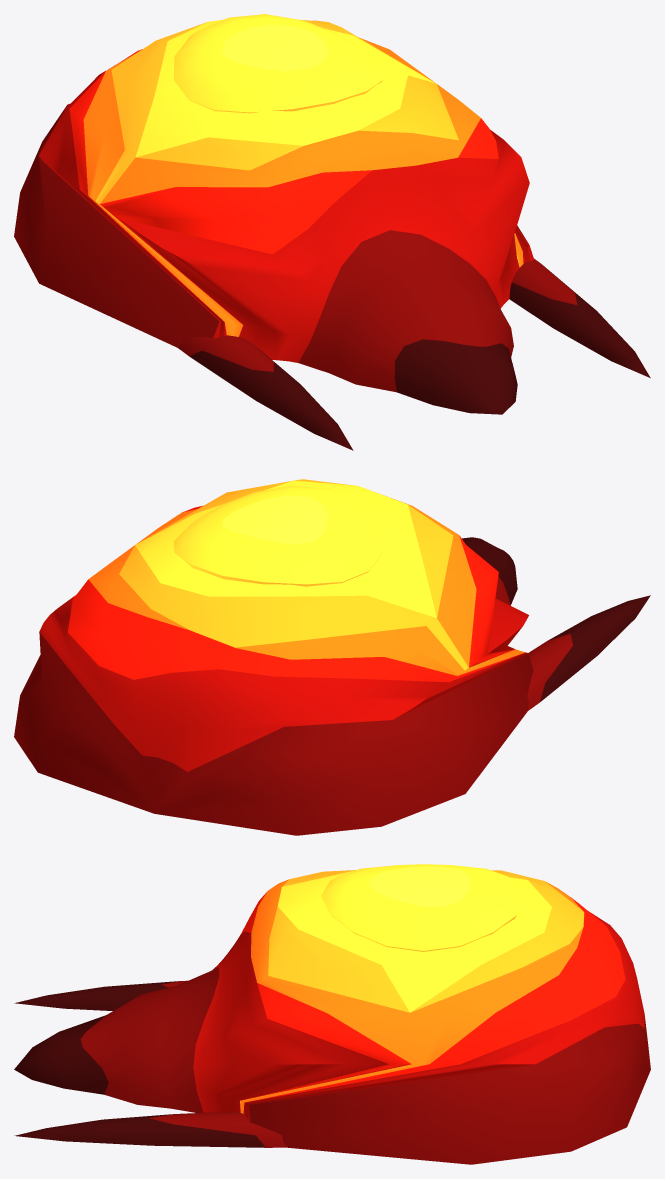
The model's file is shot_megapulse_37.glb.
3 renders of one model, top to bottom at view 1: azimuth 30°, elevation 25°; view 2: azimuth 150°, elevation 25°; view 3: azimuth 270°, elevation 25°, orthographic. The views are drawn at different scales.
Visible parts, largest first — view 1: shot_megapulse_37_fire, shot_megapulse_37_core, shot_megapulse_37_tongue0, shot_megapulse_37_tongue1; view 2: shot_megapulse_37_fire, shot_megapulse_37_core, shot_megapulse_37_tongue0; view 3: shot_megapulse_37_fire, shot_megapulse_37_core, shot_megapulse_37_tongue1, shot_megapulse_37_tongue0.
Boxes of the visible parts, x1=… form: shot_megapulse_37_fire: x1=14, y1=19, x2=533, y2=414; shot_megapulse_37_core: x1=174, y1=14, x2=382, y2=113; shot_megapulse_37_tongue0: x1=178, y1=335, x2=353, y2=450; shot_megapulse_37_tongue1: x1=509, y1=258, x2=650, y2=378; shot_megapulse_37_fire: x1=14, y1=479, x2=533, y2=835; shot_megapulse_37_core: x1=174, y1=485, x2=382, y2=586; shot_megapulse_37_tongue0: x1=527, y1=595, x2=650, y2=710; shot_megapulse_37_fire: x1=14, y1=870, x2=650, y2=1164; shot_megapulse_37_core: x1=321, y1=864, x2=525, y2=951; shot_megapulse_37_tongue1: x1=14, y1=1111, x2=286, y2=1147; shot_megapulse_37_tongue0: x1=14, y1=980, x2=187, y2=1010.
Size of the model in its own units: 9.9 by 4.58 by 14.
